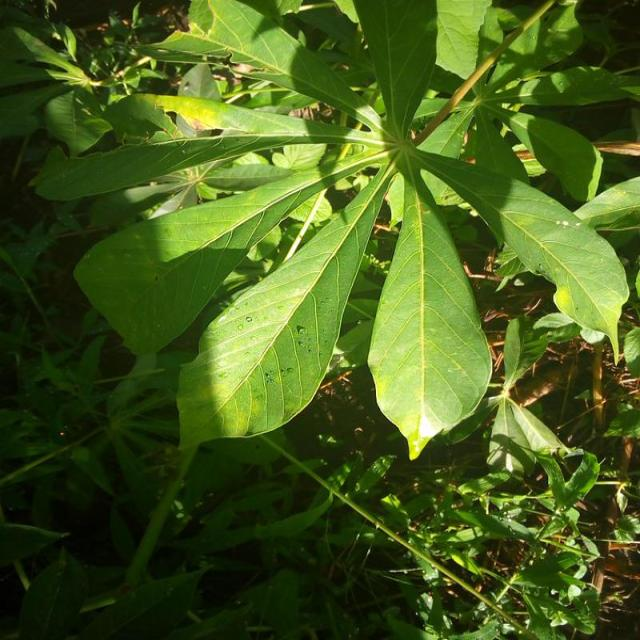cassava leaf: (58, 0, 637, 466), (174, 154, 396, 456), (366, 173, 492, 461)
